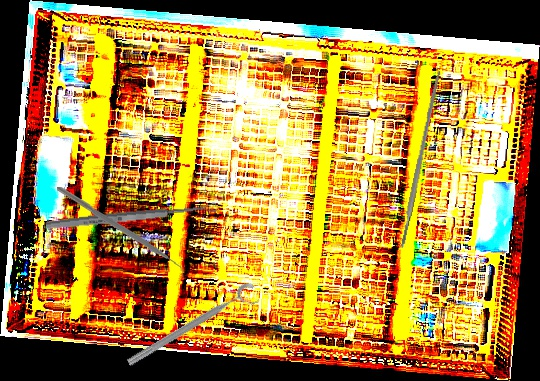Chopper: (55, 186, 186, 281)
Fixation Ring: (124, 279, 263, 378)
Scalpel Handle: (397, 69, 443, 250)
Surgical Spoon: (45, 202, 218, 231)
